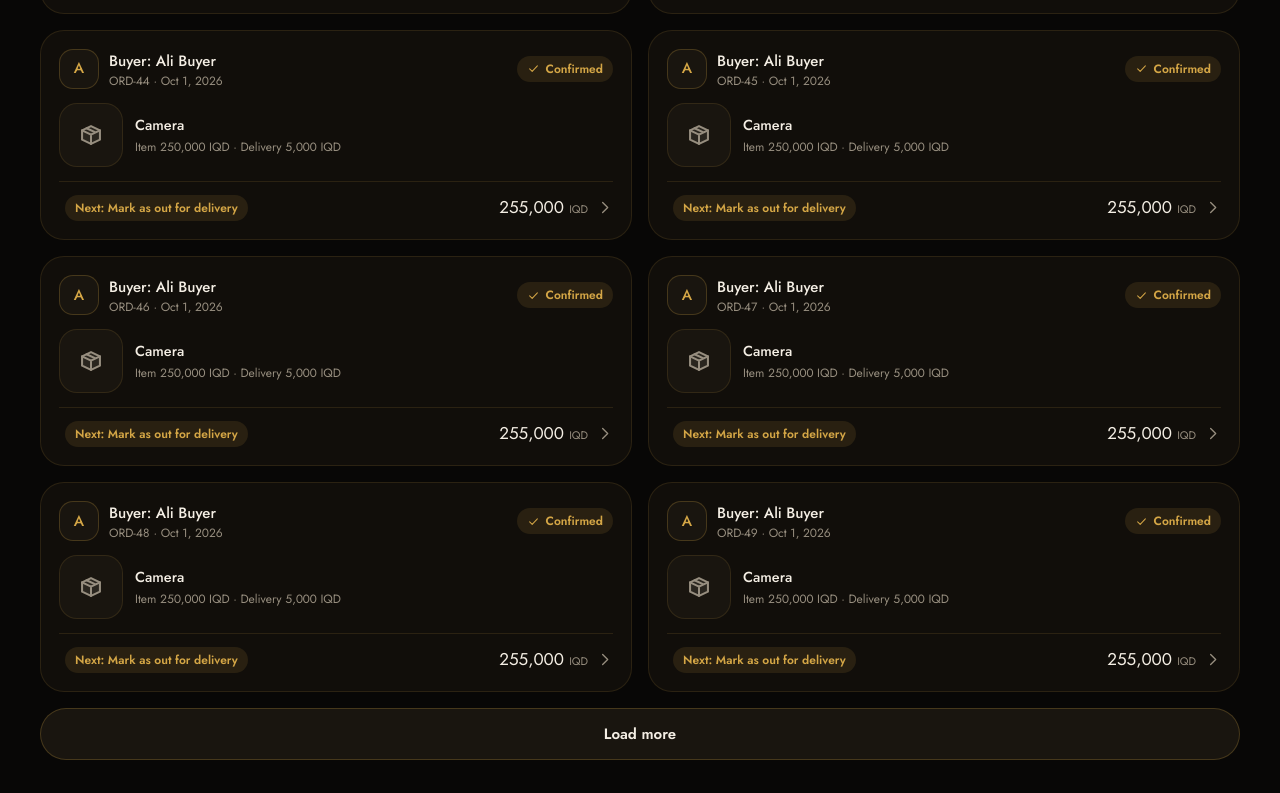
it: orders and sales beyond the first 50 › pages the seller sales the same way
(page scrolled)
Step 1. Click the button with test id "orders-load-more" → (640, 734), box 40,708 -> 1240,760
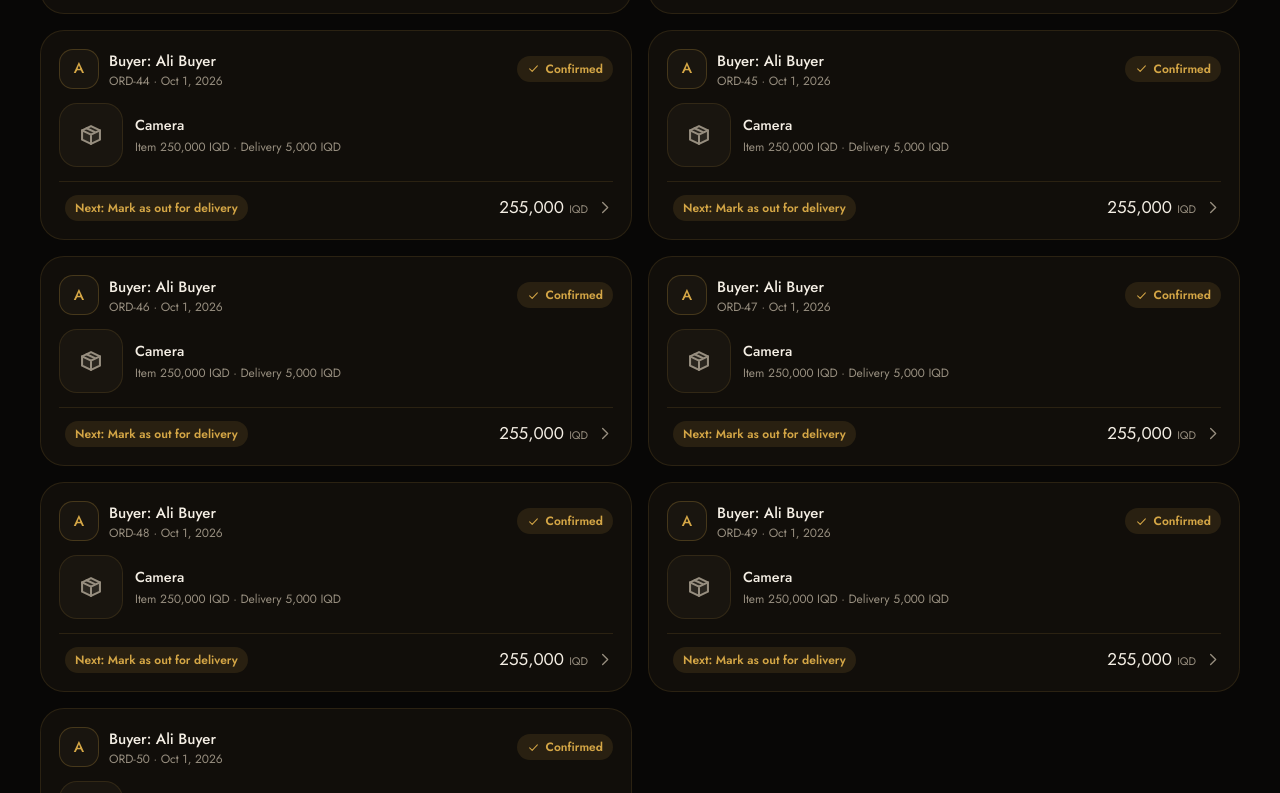
Check: the text "ORD-50" is shown, box 109,752 -> 150,768
